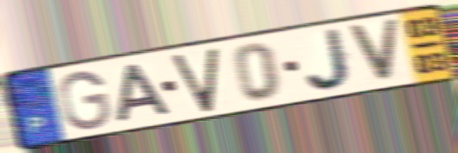0: (230, 40, 286, 103)
A: (116, 61, 176, 126)
G: (57, 69, 114, 132)
J: (302, 25, 357, 94)
V: (344, 17, 401, 84), (169, 45, 220, 116)
